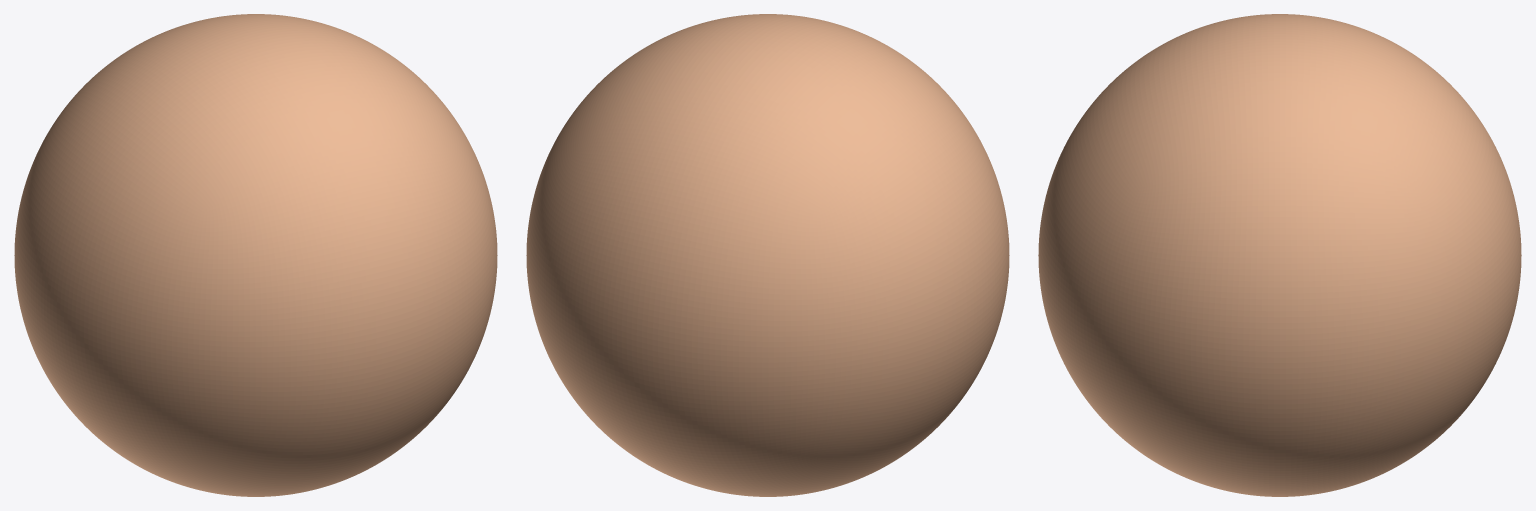
3 views of the same model, side by side, from view 1: azimuth 30°, elevation 25°; view 2: azimuth 150°, elevation 25°; view 3: azimuth 270°, elevation 25° (orthographic).
Visible parts, largest first — view 1: Quad Sphere; view 2: Quad Sphere; view 3: Quad Sphere.
Part boxes in pixels (x1=…): Quad Sphere: x1=14, y1=14, x2=497, y2=496; Quad Sphere: x1=526, y1=14, x2=1009, y2=496; Quad Sphere: x1=1038, y1=14, x2=1521, y2=496.
Size of the model in its own units: 257 by 257 by 257.
